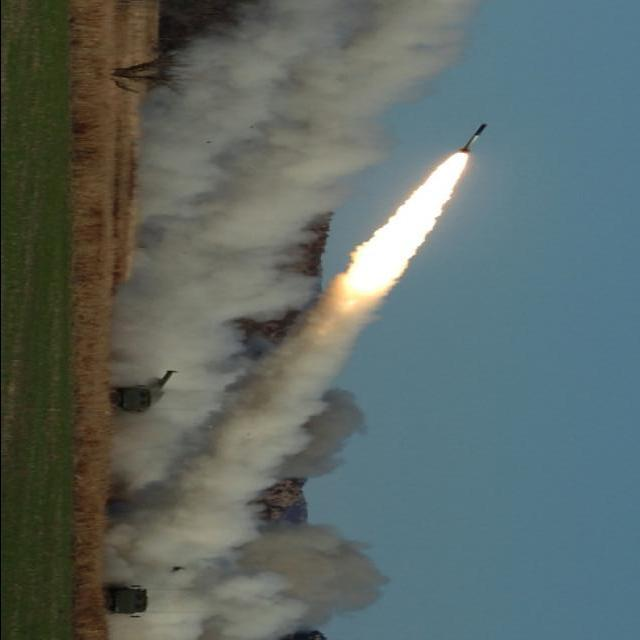Missile: (457, 119, 493, 155)
